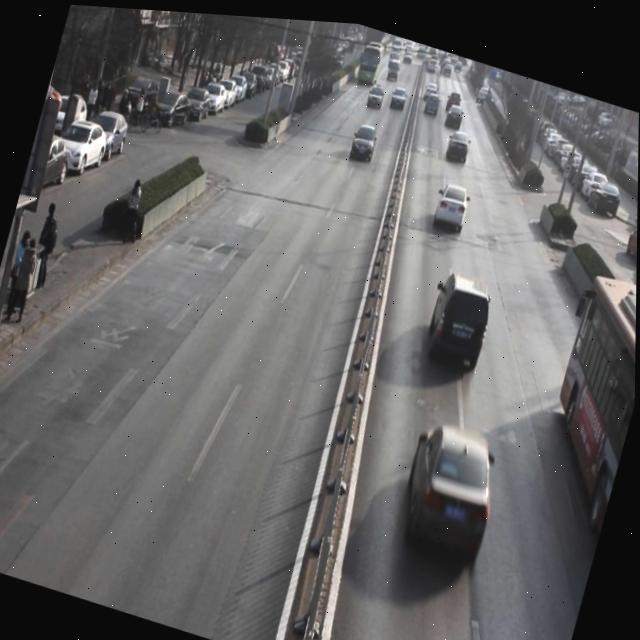car: (392, 406, 512, 564), (421, 258, 502, 368), (430, 170, 474, 227), (443, 117, 475, 158), (349, 114, 380, 156), (388, 75, 410, 105), (366, 73, 386, 103)
van: (527, 251, 637, 531)
